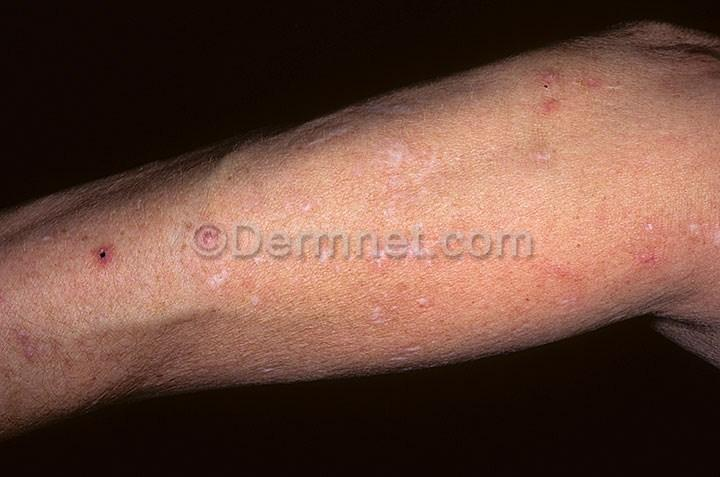Eczema: (300, 107, 462, 215), (516, 40, 644, 167), (604, 185, 720, 309), (331, 270, 454, 378), (41, 214, 162, 317), (533, 251, 619, 325)
